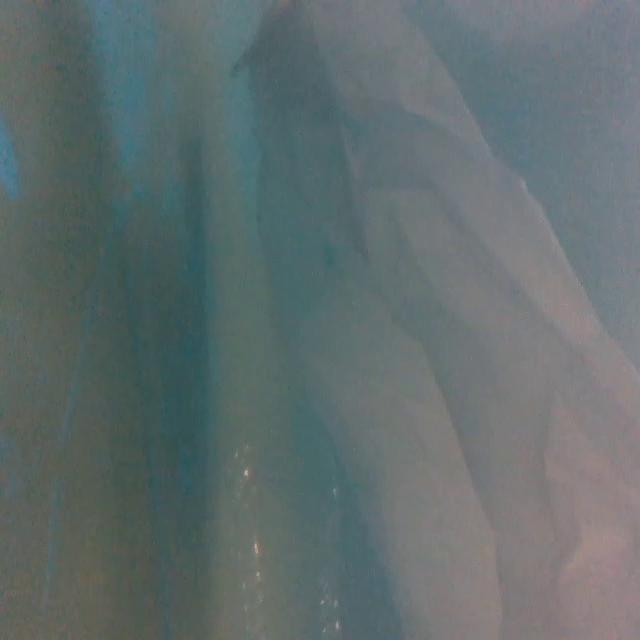plastic bags: (230, 0, 637, 640)
plastic bottle: (204, 411, 348, 640)
